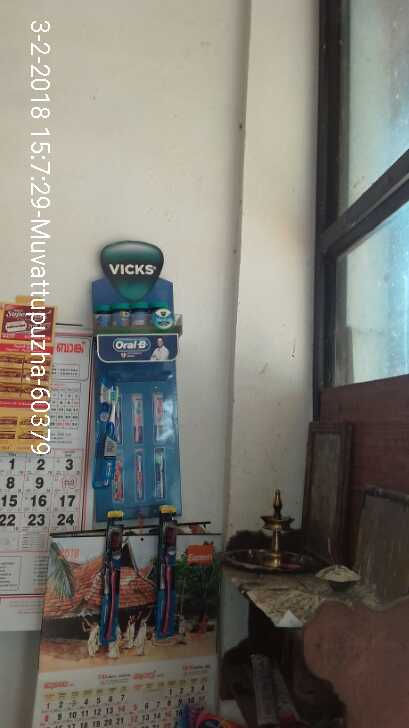pharmacy: (94, 382, 126, 487), (87, 298, 178, 332)
